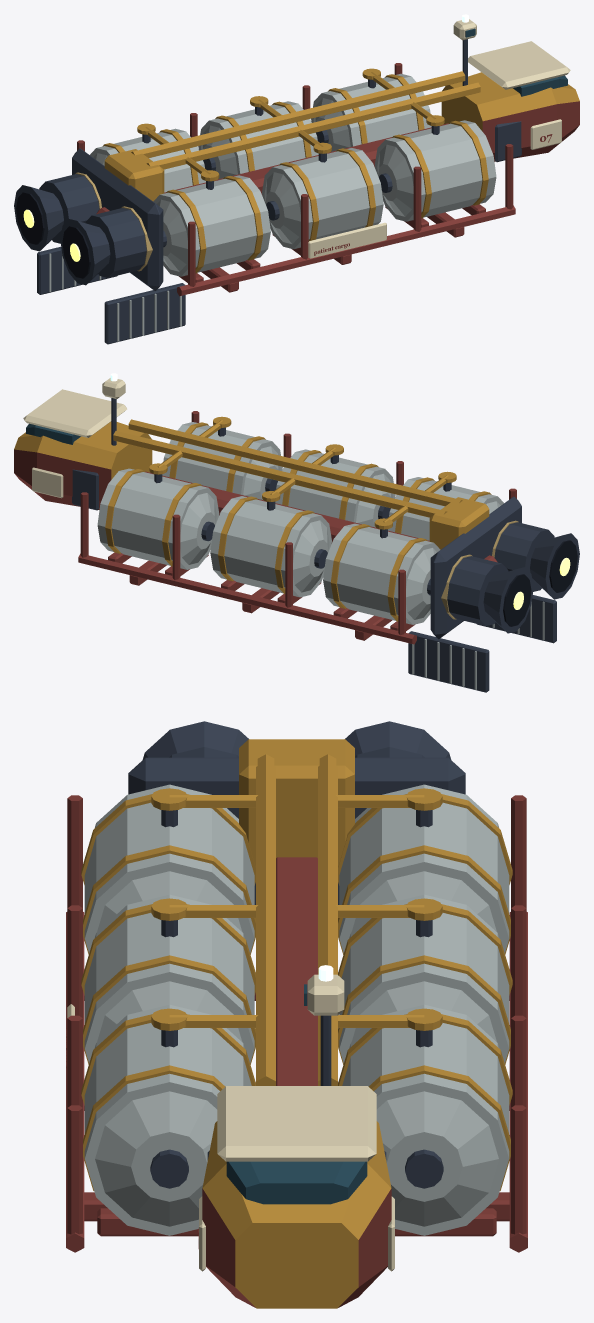
File: patient-cargo.glb
3 views of the same model, one above another, from view 1: azimuth 30°, elevation 25°; view 2: azimuth 150°, elevation 25°; view 3: azimuth 270°, elevation 25° (orthographic). The views are drawn at different scales.
Parts seen in each view (by area): view 1: pressure vessel.004, pressure vessel, pressure vessel.002, armored tug cabin, reactor shield, main transfer pipe.001, main transfer pipe, radiator frame, outer protection rail, bridge cap, pressure vessel.003, pressure vessel.005 (+29 smaller); view 2: pressure vessel.003, pressure vessel.005, pressure vessel.001, armored tug cabin, reactor shield, main transfer pipe, main transfer pipe.001, outer protection rail.001, radiator frame.001, bridge cap, pressure vessel.004, pressure vessel.002 (+28 smaller); view 3: armored tug cabin, bridge cap, pressure vessel.004, pressure vessel.005, pressure vessel.002, pressure vessel, pressure vessel.001, pressure vessel.003, dished end.009, dished end.011, load bearing spine, reactor service block (+45 smaller).
Boxes of the visible parts, x1,y1,x2,y2 form: pressure vessel.004: (374,120,496,221); pressure vessel: (153,175,270,276); pressure vessel.002: (262,148,383,249); armored tug cabin: (441,72,579,161); reactor shield: (72,148,163,290); main transfer pipe.001: (131,71,465,157); main transfer pipe: (146,82,480,169); radiator frame: (104,283,185,344); outer protection rail: (177,205,515,296); bridge cap: (468,41,570,89); pressure vessel.003: (198,101,318,174); pressure vessel.005: (311,73,431,146); pressure vessel.003: (210,496,331,597); pressure vessel.005: (97,468,219,569); pressure vessel.001: (323,523,440,624); armored tug cabin: (14,421,152,509); reactor shield: (430,496,521,639); main transfer pipe: (128,419,462,506); main transfer pipe.001: (113,431,447,517); outer protection rail.001: (78,553,416,644); radiator frame.001: (408,631,489,692); bridge cap: (23,389,127,437); pressure vessel.004: (162,422,282,494); pressure vessel.002: (275,449,395,522); armored tug cabin: (202,1121,391,1308); bridge cap: (217,1086,376,1161); pressure vessel.004: (84,1004,251,1235); pressure vessel.005: (342,1004,509,1235); pressure vessel.002: (84,894,254,1063); pressure vessel: (84,784,254,953); pressure vessel.001: (339,784,509,953); pressure vessel.003: (339,894,509,1063); dished end.009: (95,1091,217,1226); dished end.011: (376,1091,498,1226); load bearing spine: (276,857,317,1085); reactor service block: (239,739,354,867).
Bounding box in the file's own units: 12.29 × 4.58 × 4.79.
